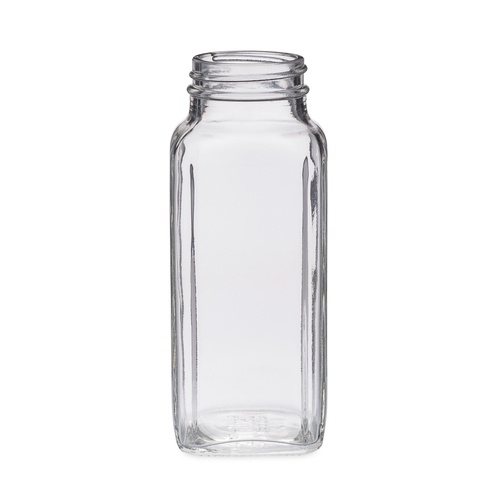emptybottle: (169, 53, 328, 452)
